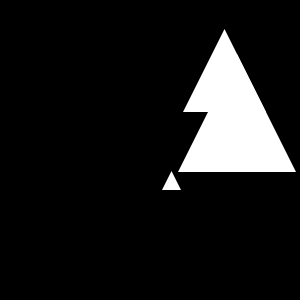triangle: (178, 54, 296, 172), (183, 29, 266, 112), (162, 171, 181, 190)
